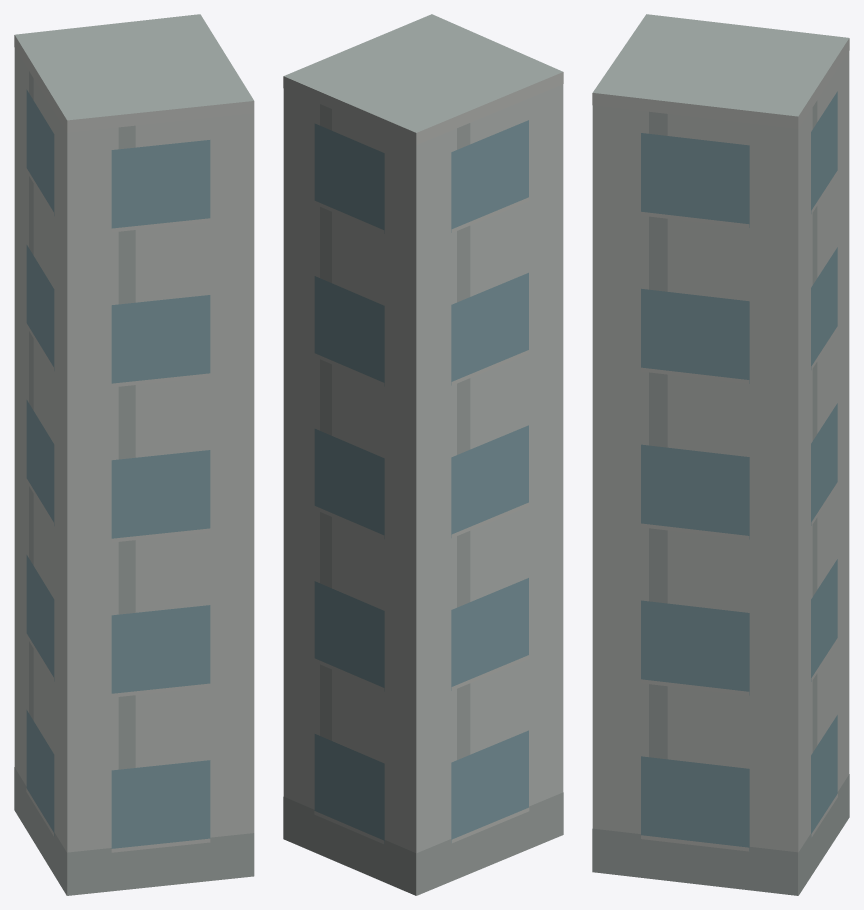
The model's file is survey-upis-32941452.glb.
The picture shows the model from 3 angles, left to right: view 1: azimuth 30°, elevation 25°; view 2: azimuth 150°, elevation 25°; view 3: azimuth 270°, elevation 25°; orthographic projection. The views are drawn at different scales.
Visible parts, largest first — view 1: survey-upis-32941452.tmp; view 2: survey-upis-32941452.tmp; view 3: survey-upis-32941452.tmp.
Boxes of the visible parts, <box> form: survey-upis-32941452.tmp: <box>14,14,254,895</box>; survey-upis-32941452.tmp: <box>283,14,563,895</box>; survey-upis-32941452.tmp: <box>592,14,849,895</box>.
Size of the model in its own units: 4.31 by 15.25 by 4.57.
